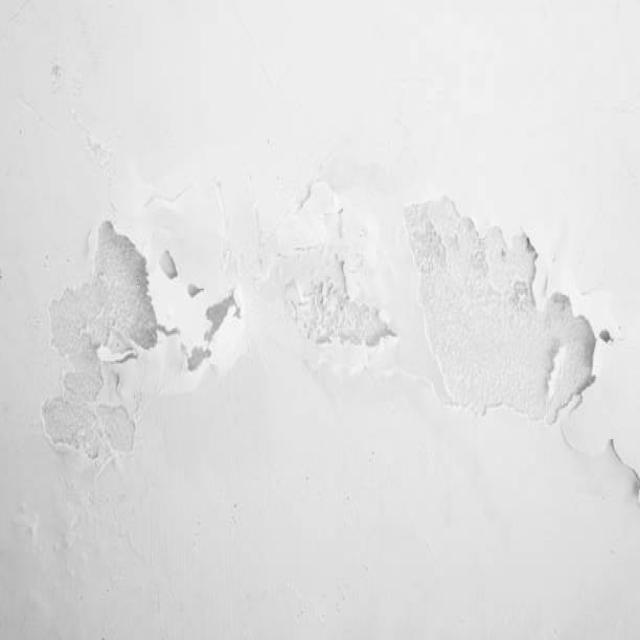peeling paint: (20, 151, 640, 560)
